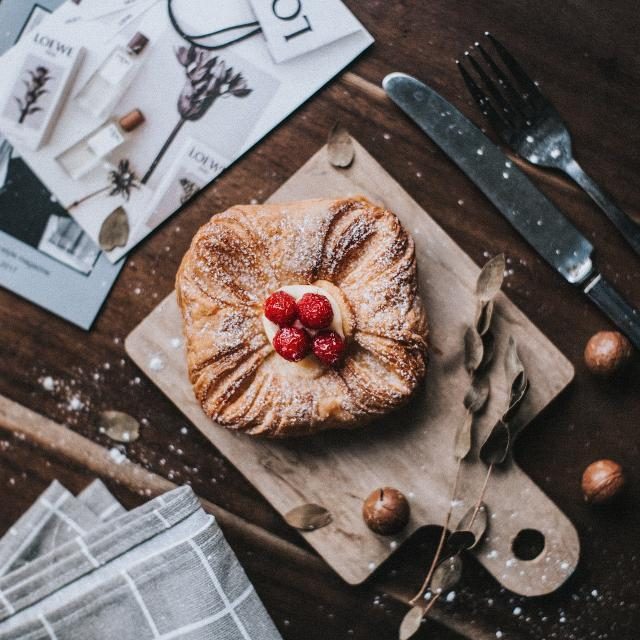Knife: (382, 72, 640, 348)
